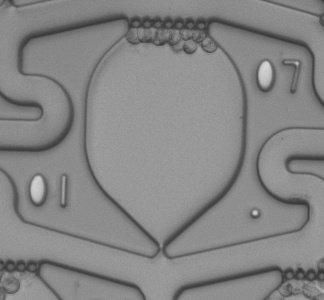AptNum: (251, 52, 307, 101)
Marker: (245, 205, 265, 223)
StNum: (23, 166, 77, 219)
